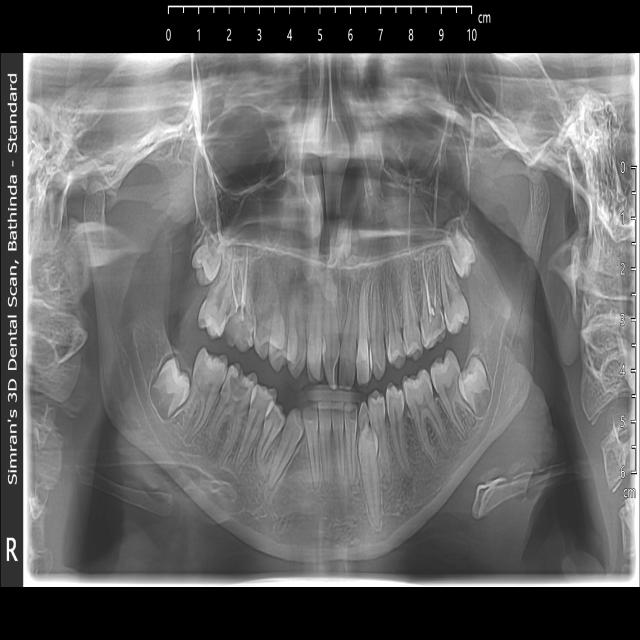Caries: (219, 365, 256, 411), (228, 311, 255, 349), (345, 404, 358, 430)
Malaligned: (268, 407, 305, 485)
Root Canal Treatment: (227, 241, 255, 350), (418, 238, 444, 348)
impacted tooth: (155, 354, 192, 420), (357, 428, 380, 526), (457, 356, 491, 420), (444, 221, 476, 284), (192, 236, 221, 284)
